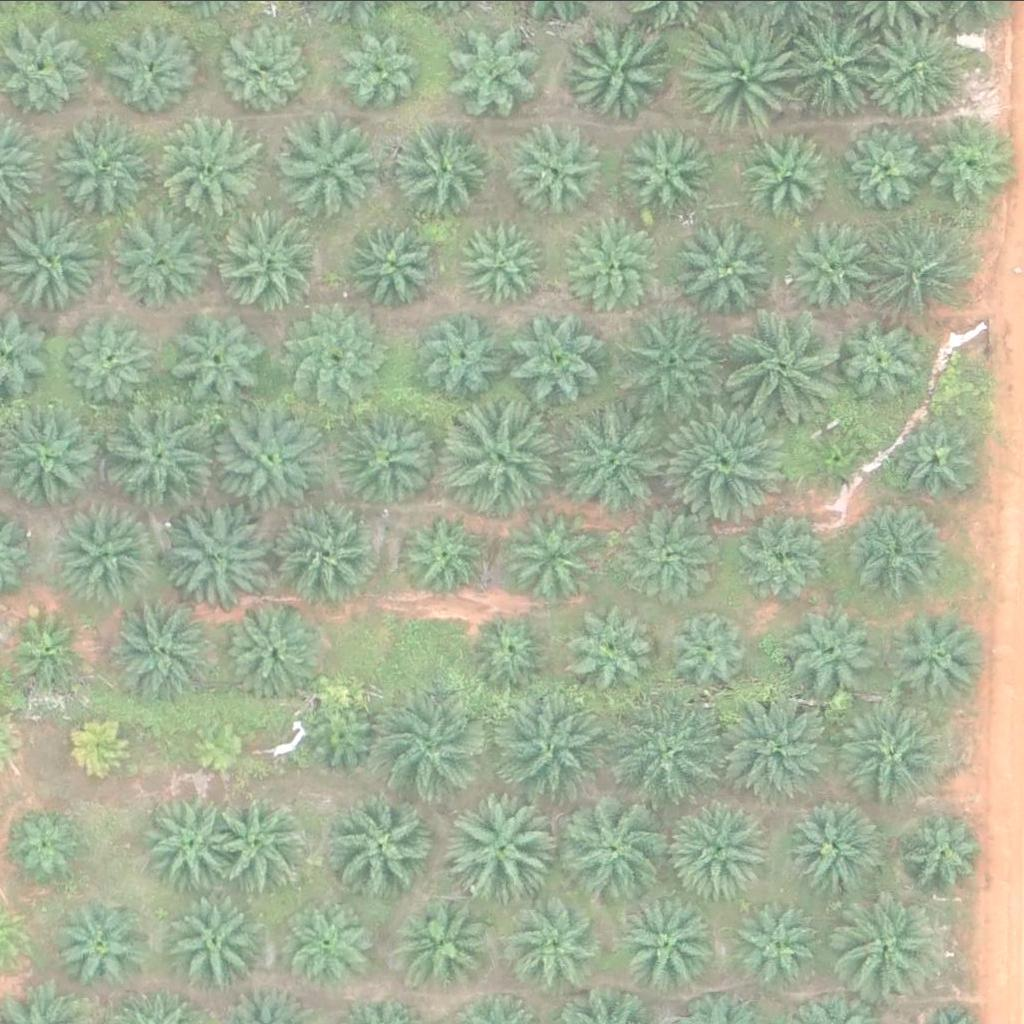Kelapa_Sawit: (723, 308, 837, 421), (218, 399, 332, 512), (102, 592, 216, 705), (495, 685, 609, 798), (323, 788, 437, 901), (155, 117, 268, 230), (862, 209, 975, 322), (100, 396, 213, 509), (437, 399, 550, 512), (168, 494, 281, 607), (451, 795, 564, 908), (858, 10, 972, 122), (836, 698, 950, 810), (5, 203, 119, 315), (692, 16, 805, 128), (616, 306, 729, 418), (558, 401, 671, 513), (669, 404, 782, 516), (374, 683, 487, 795), (614, 695, 727, 807), (726, 687, 839, 799), (558, 793, 671, 905), (832, 883, 945, 995), (570, 23, 671, 123), (438, 21, 539, 121), (570, 210, 671, 310), (780, 214, 881, 314), (831, 307, 932, 407), (511, 312, 612, 412), (338, 406, 439, 506), (55, 506, 156, 606), (278, 493, 379, 593), (849, 499, 950, 599), (219, 592, 320, 692), (893, 605, 994, 705), (139, 792, 240, 892), (784, 794, 885, 894), (52, 898, 153, 998), (168, 891, 269, 991), (392, 891, 493, 991), (509, 889, 610, 989), (620, 893, 721, 993), (46, 114, 147, 214), (785, 16, 885, 116), (284, 118, 384, 218), (400, 116, 500, 216), (220, 204, 320, 304), (689, 214, 789, 314), (60, 310, 160, 410), (667, 795, 767, 895), (118, 210, 219, 309), (290, 900, 379, 988), (623, 126, 711, 214), (747, 133, 835, 221), (839, 129, 927, 217), (346, 221, 434, 309), (459, 220, 547, 308), (303, 315, 391, 403), (173, 316, 261, 404), (624, 510, 712, 598), (575, 601, 663, 689), (669, 605, 757, 693), (304, 687, 392, 775), (219, 795, 307, 883), (907, 805, 995, 893), (890, 414, 979, 501), (405, 510, 494, 597), (735, 894, 824, 981), (335, 27, 423, 114), (217, 27, 305, 114), (110, 24, 198, 111), (511, 125, 599, 212), (418, 309, 506, 396), (520, 506, 608, 593), (740, 513, 828, 600), (472, 607, 560, 694), (786, 606, 874, 693), (61, 706, 137, 781), (808, 422, 871, 485), (190, 714, 253, 776)
